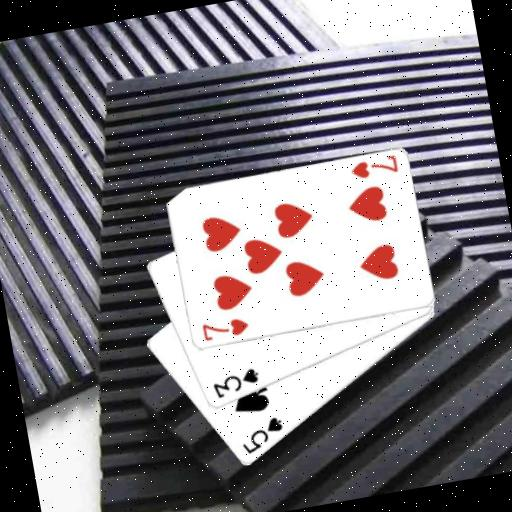3S: (207, 364, 262, 401)
5S: (235, 413, 288, 458)
7H: (198, 313, 251, 343), (347, 152, 400, 182)
